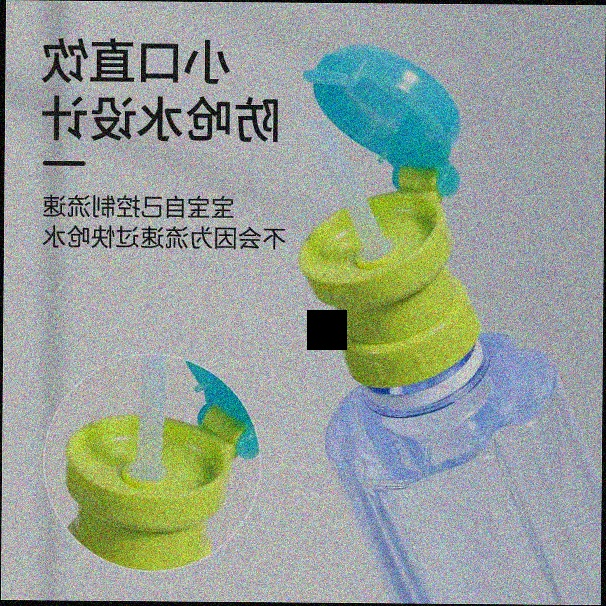bottle: (300, 284, 602, 604)
